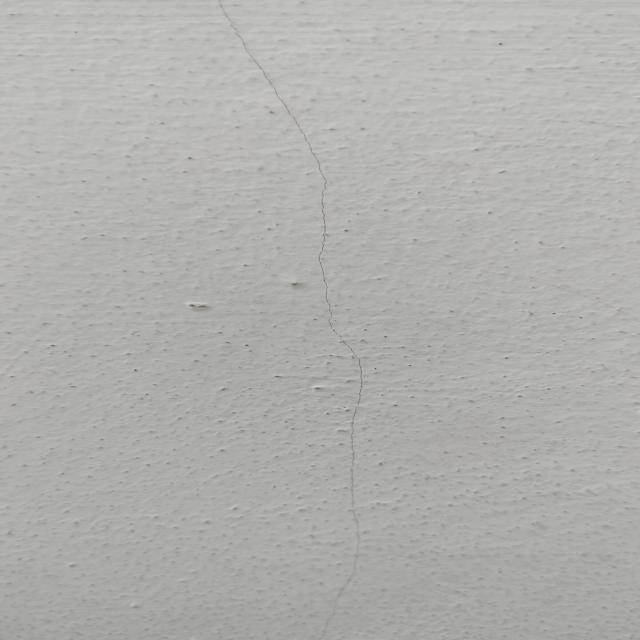Crack: (212, 1, 374, 639)
